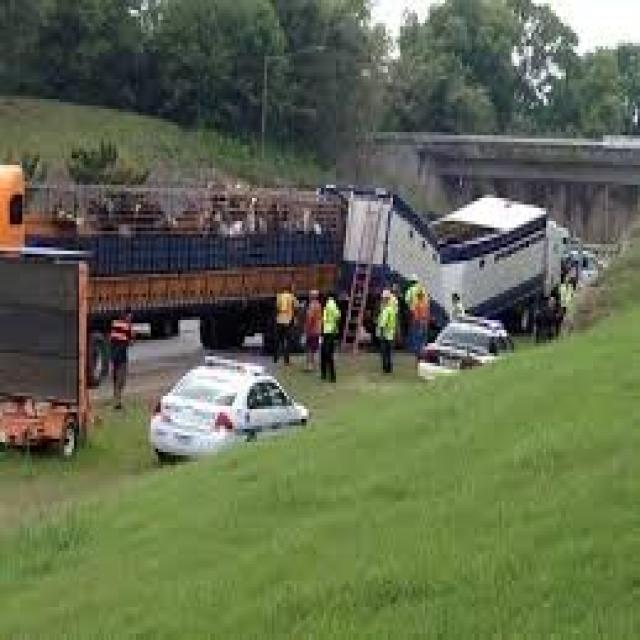accident: (202, 144, 589, 347)
